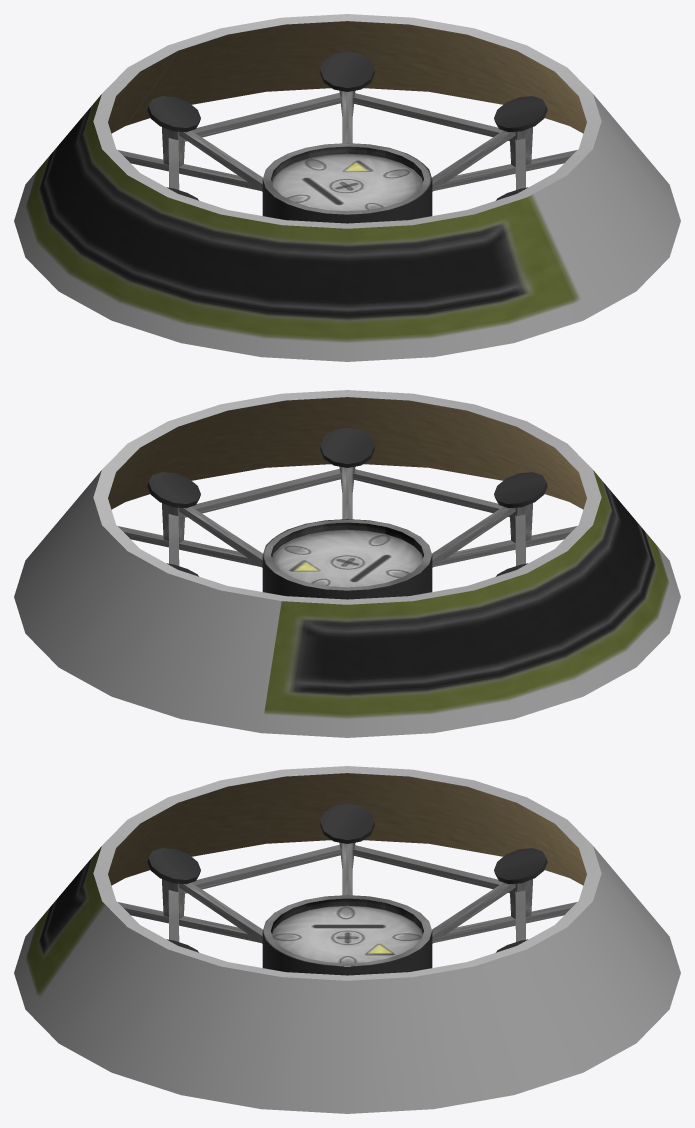
3 views of the same model, one above another, from view 1: azimuth 30°, elevation 25°; view 2: azimuth 150°, elevation 25°; view 3: azimuth 270°, elevation 25° (orthographic).
Visible parts, largest first — view 1: Adapter1825, Cylinder041, Cylinder039, Box072, Box069, Cylinder022, Cylinder038, Box143, Box150, Box094, Box092, Box093 (+3 smaller); view 2: Adapter1825, Cylinder041, Cylinder035, Box060, Box021, Cylinder036, Cylinder022, Box152, Box143, Box092, Box090, Box091 (+3 smaller); view 3: Adapter1825, Cylinder041, Cylinder037, Box066, Box063, Cylinder036, Cylinder038, Box150, Box152, Box090, Box094, Box067 (+3 smaller).
Part boxes in pixels (x1,y1,x2,y2): Adapter1825: (14, 14, 680, 361); Cylinder041: (262, 143, 432, 223); Cylinder039: (320, 51, 374, 91); Box072: (352, 93, 510, 141); Box069: (184, 92, 341, 141); Cylinder022: (494, 96, 547, 132); Cylinder038: (147, 96, 200, 132); Box143: (432, 150, 576, 191); Box150: (118, 150, 260, 190); Box094: (179, 130, 262, 191); Box092: (432, 130, 515, 191); Box093: (342, 91, 352, 143); Adapter1825: (14, 390, 680, 737); Cylinder041: (262, 519, 432, 599); Cylinder035: (320, 427, 374, 467); Box060: (352, 469, 510, 517); Box021: (184, 468, 341, 517); Cylinder036: (494, 472, 547, 508); Cylinder022: (147, 472, 200, 508); Box152: (432, 526, 576, 567); Box143: (118, 526, 260, 566); Box092: (179, 506, 262, 567); Box090: (432, 506, 515, 567); Box091: (342, 467, 352, 519); Adapter1825: (14, 766, 680, 1113); Cylinder041: (262, 895, 432, 975); Cylinder037: (320, 803, 374, 843); Box066: (352, 845, 510, 893); Box063: (184, 844, 341, 893); Cylinder036: (147, 848, 200, 884); Cylinder038: (494, 848, 547, 884); Box150: (432, 902, 576, 943); Box152: (118, 902, 260, 942); Box090: (179, 882, 262, 943); Box094: (432, 882, 515, 943); Box067: (342, 843, 352, 895).
Size of what is drawn, in the model's own units: 2.5 by 2.5 by 0.4121.
Materials: 1 (1 with a texture image).
